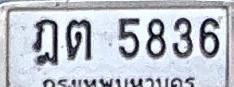3: (172, 16, 193, 58)
5: (118, 17, 140, 59)
6: (199, 17, 219, 58)
8: (146, 17, 165, 59)
A14: (32, 18, 58, 66)
A21: (66, 18, 91, 60)
